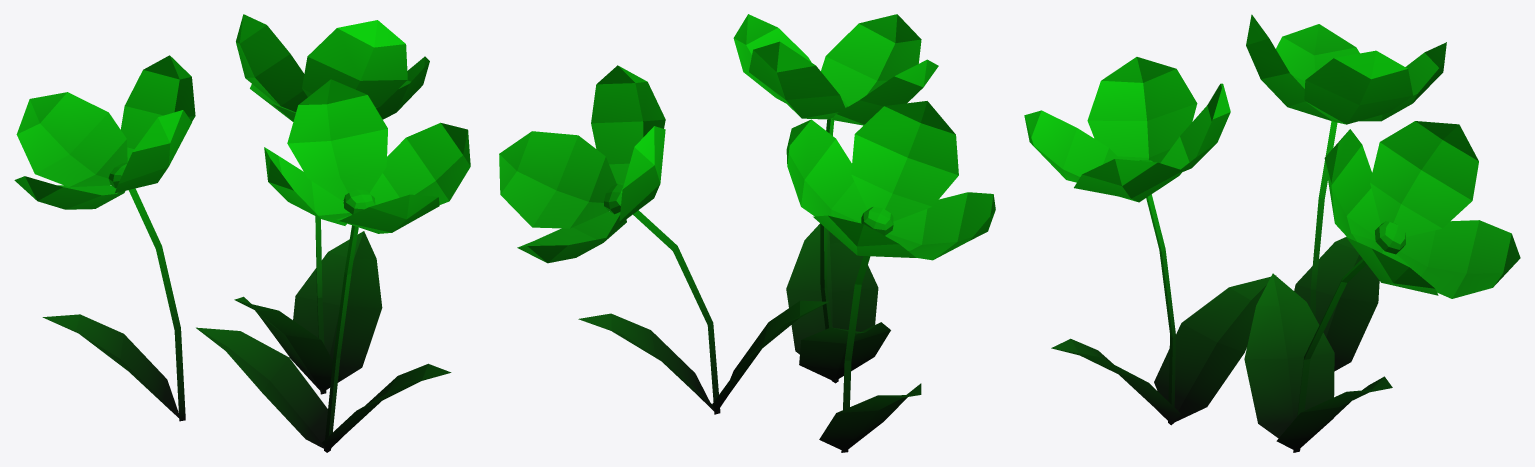
File: SM_Flower_04.fbx
3 views of the same model, side by side, from view 1: azimuth 30°, elevation 25°; view 2: azimuth 150°, elevation 25°; view 3: azimuth 270°, elevation 25° (orthographic). The views are drawn at different scales.
Parts seen in each view (by area): view 1: SM_Flower_04; view 2: SM_Flower_04; view 3: SM_Flower_04.
Part boxes in pixels (x1,y1,x2,y2): SM_Flower_04: [14, 14, 470, 452]; SM_Flower_04: [499, 14, 995, 452]; SM_Flower_04: [1024, 14, 1520, 452].
Bounding box in the file's own units: 113 × 84.1 × 107.
